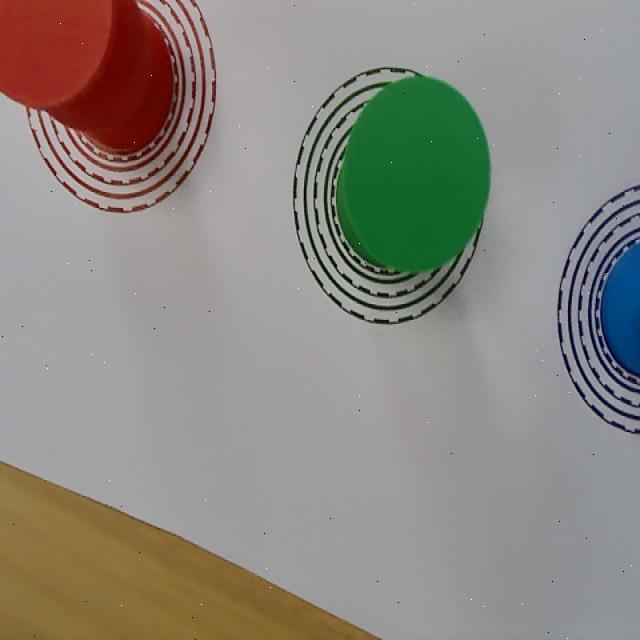g: (342, 79, 492, 273)
